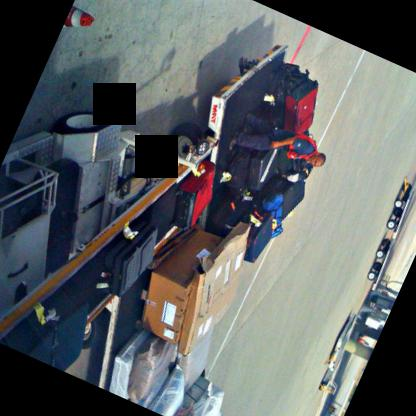suitcase: (0, 291, 86, 371), (98, 219, 157, 300), (169, 157, 215, 232), (107, 328, 154, 399), (175, 326, 212, 393), (281, 66, 316, 134), (262, 61, 298, 124), (204, 187, 251, 235), (273, 69, 305, 127), (242, 209, 272, 264), (246, 148, 277, 191), (278, 177, 305, 220)
